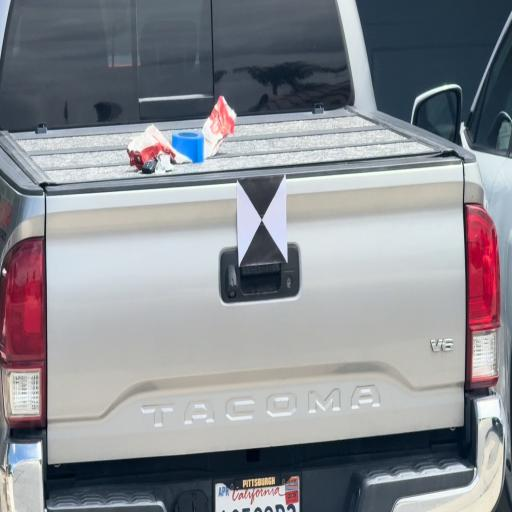target: (238, 175, 288, 263)
